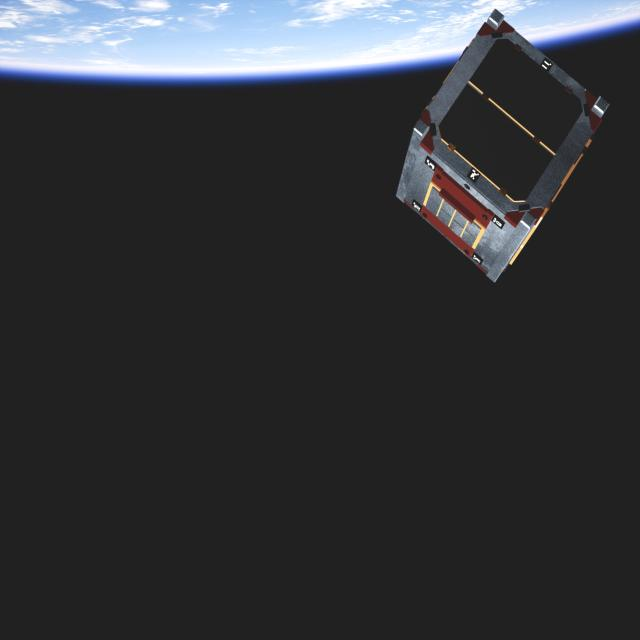medium_debris: (394, 6, 616, 289)
